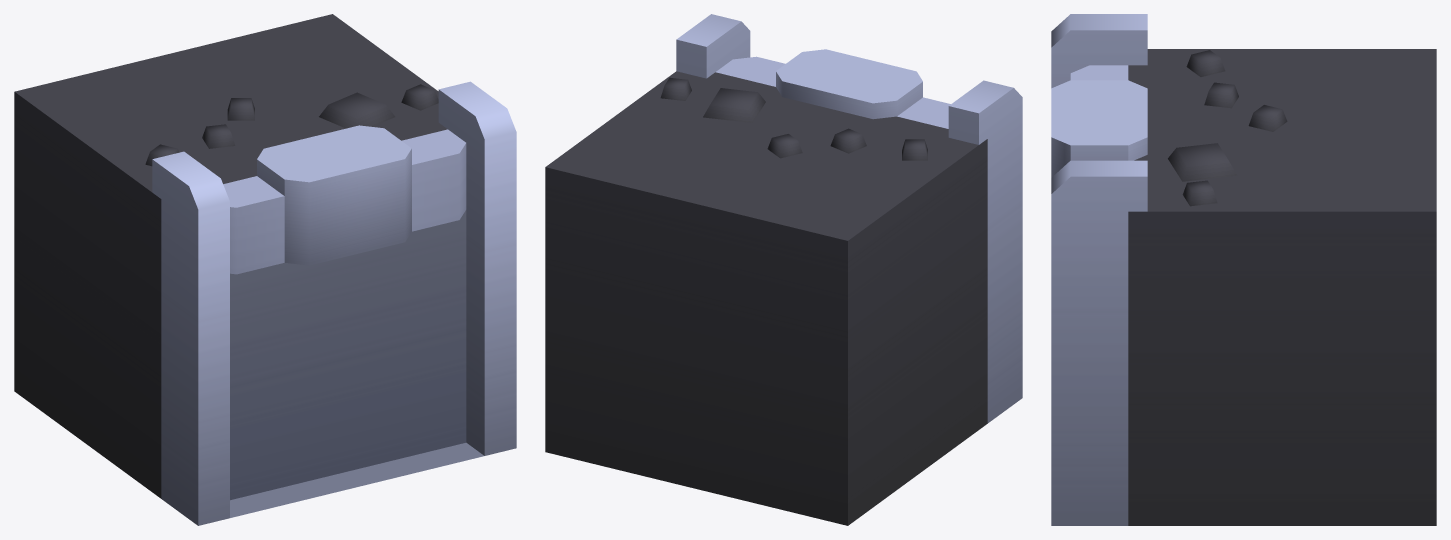
The model's file is wall-half.glb.
3 renders of one model, left to right at view 1: azimuth 30°, elevation 25°; view 2: azimuth 150°, elevation 25°; view 3: azimuth 270°, elevation 25°, orthographic. The views are drawn at different scales.
Parts seen in each view (by area): view 1: wall-half; view 2: wall-half; view 3: wall-half.
Part boxes in pixels (box(x1,y1,x2,y2)): wall-half: box(14, 14, 516, 525); wall-half: box(545, 14, 1022, 525); wall-half: box(1051, 14, 1436, 525).
Size of the model in its own units: 1 by 1 by 1.
